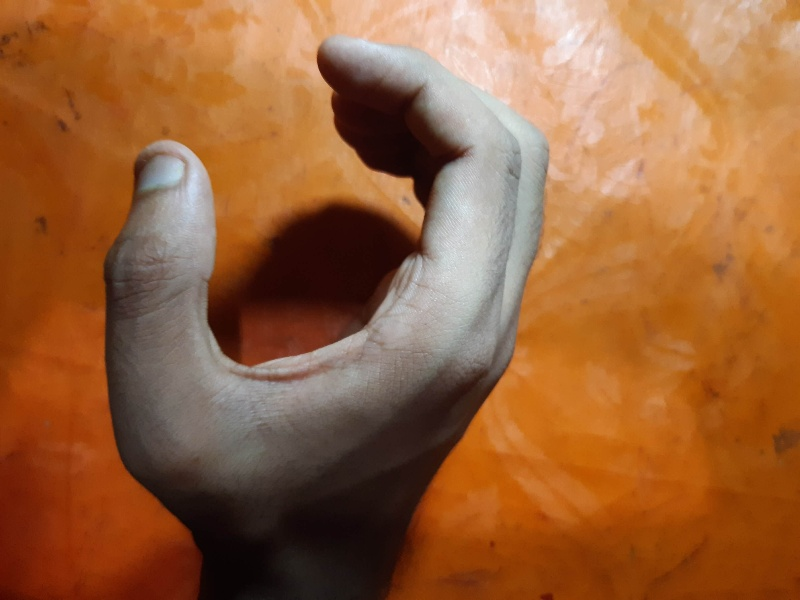one: (82, 26, 573, 555)
